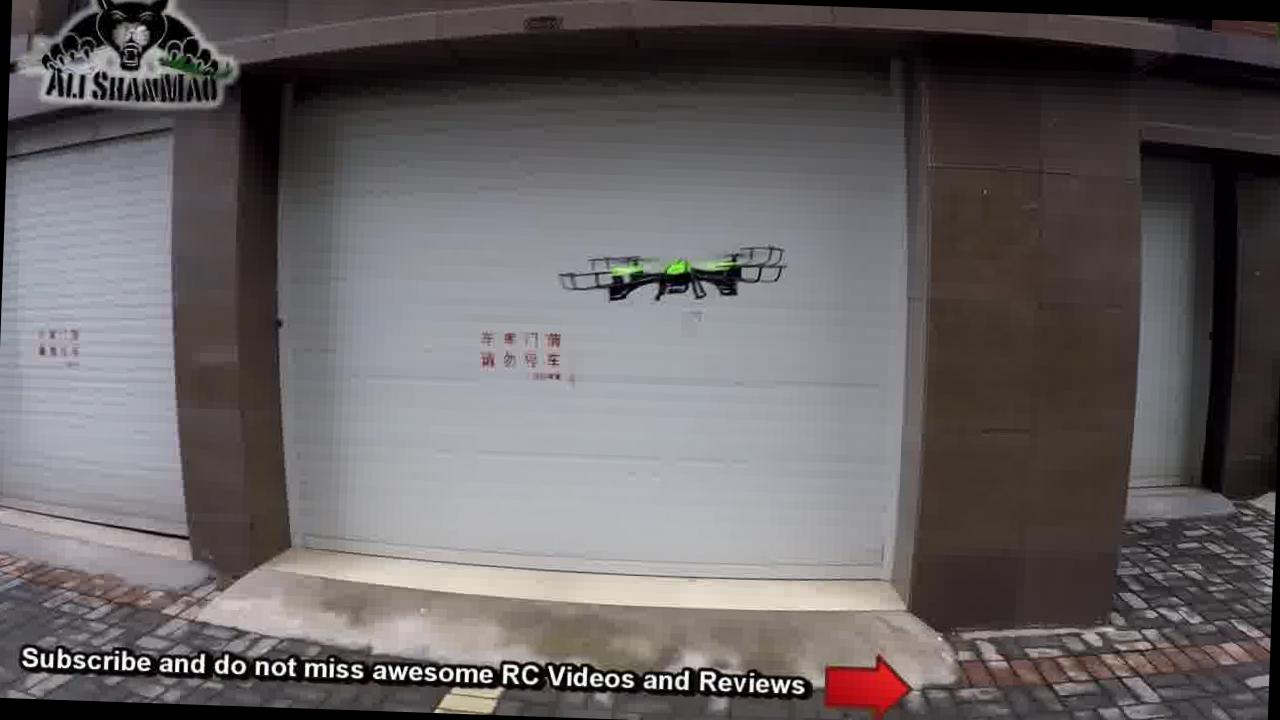drone: (550, 225, 776, 323)
